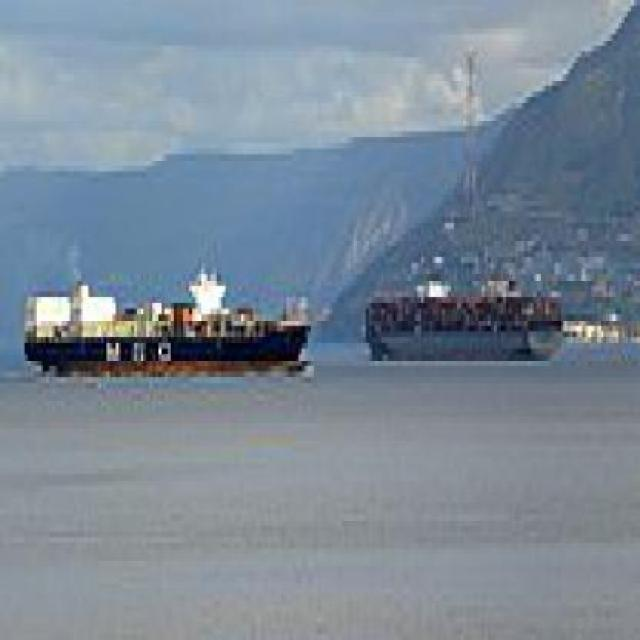container: (20, 258, 327, 401)
